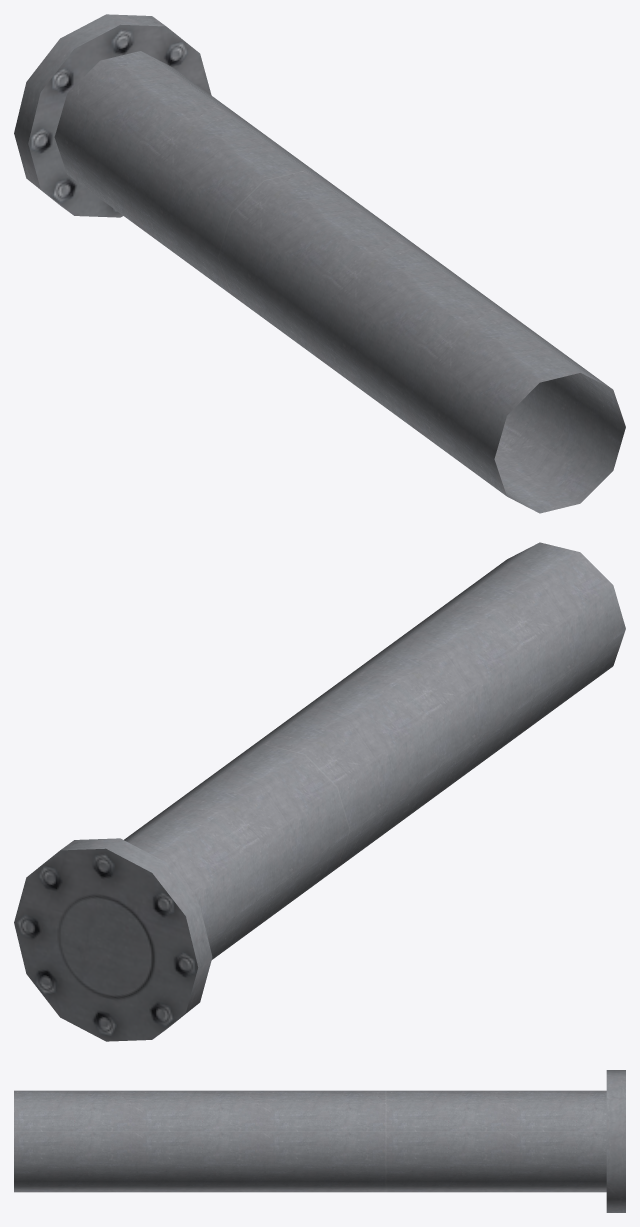
File: p_med_1_cap.FBX
3 renders of one model, top to bottom at view 1: azimuth 30°, elevation 25°; view 2: azimuth 150°, elevation 25°; view 3: azimuth 270°, elevation 25°, orthographic. The views are drawn at different scales.
Parts seen in each view (by area): view 1: Cylinder030; view 2: Cylinder030; view 3: Cylinder030.
Part boxes in pixels (x1,y1,x2,y2): Cylinder030: (14,14,625,513); Cylinder030: (14,542,625,1041); Cylinder030: (14,1070,625,1212).
Bounding box in the file's own units: 29.97 × 29.97 × 128.
1 material, 1 textured.
